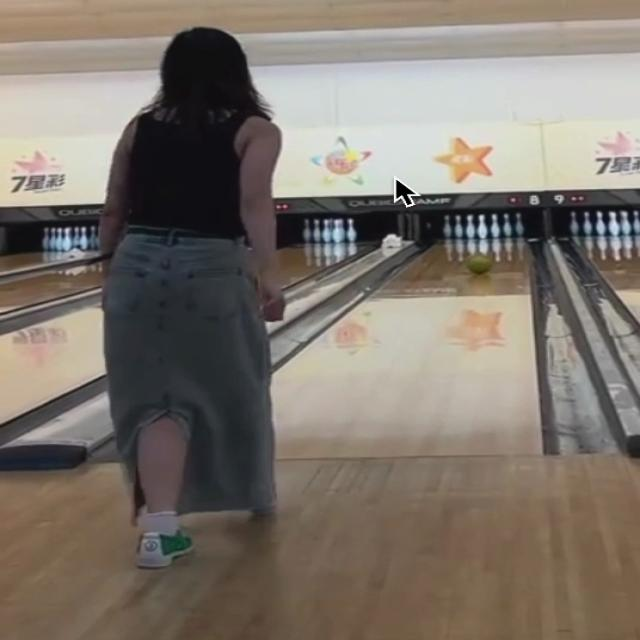alley: (275, 240, 540, 459)
balls: (466, 253, 491, 275)
bottle: (442, 212, 522, 239)
